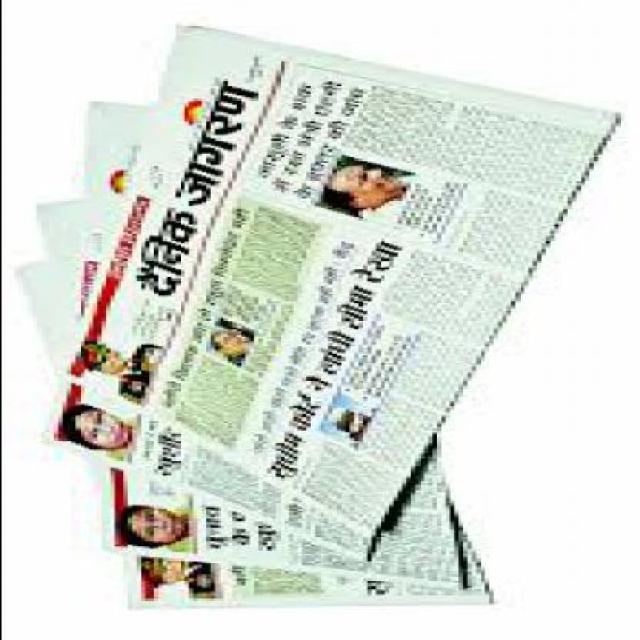PAPER: (31, 28, 614, 563), (74, 103, 466, 592), (9, 264, 488, 611)
